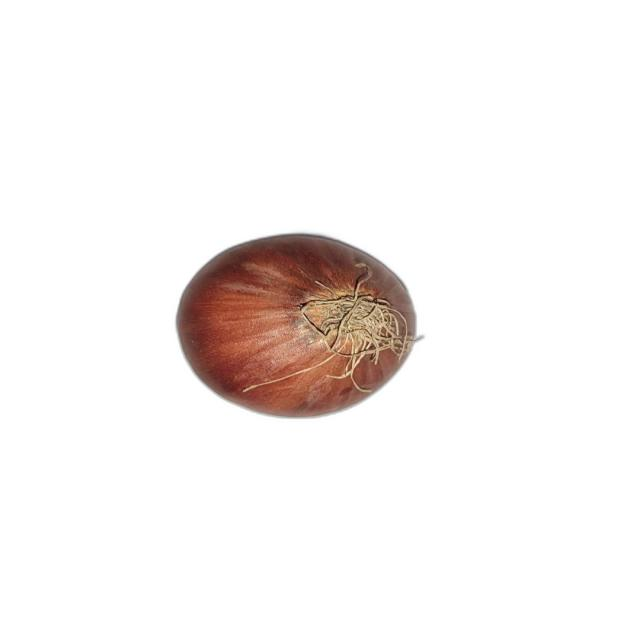onion: (175, 232, 425, 420)
